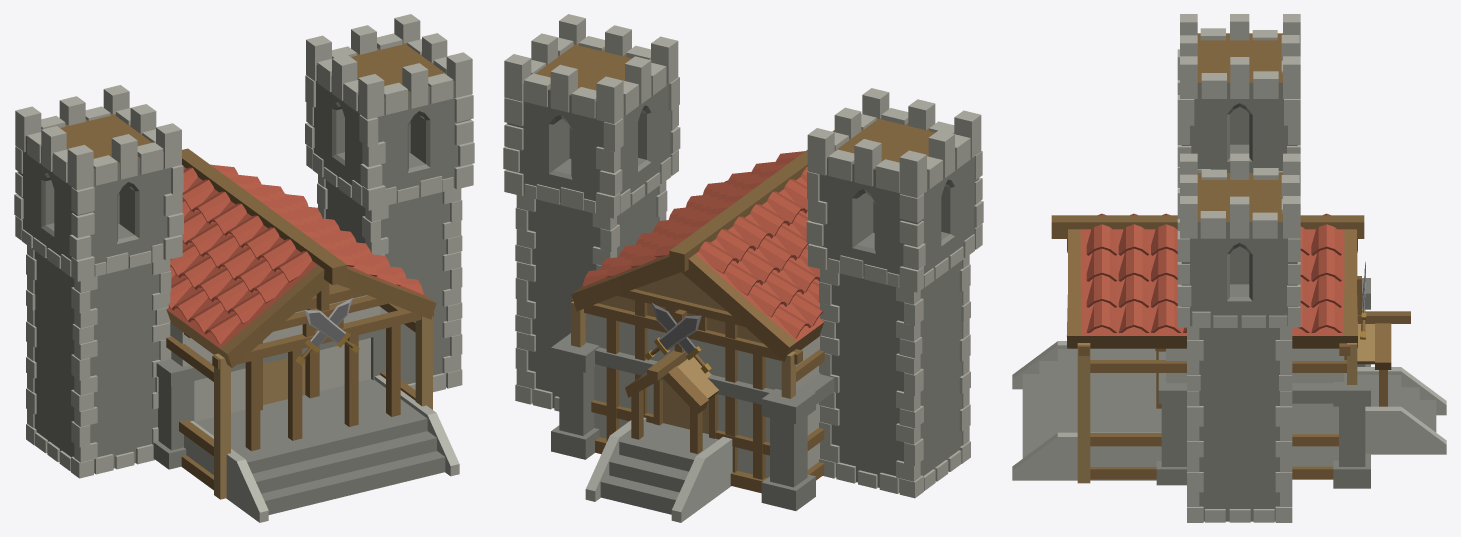
File: Barracks-dvlksXgxWc.glb
3 views of the same model, side by side, from view 1: azimuth 30°, elevation 25°; view 2: azimuth 150°, elevation 25°; view 3: azimuth 270°, elevation 25° (orthographic). The views are drawn at different scales.
Visible parts, largest first — view 1: Barracks-dvlksXgxWc; view 2: Barracks-dvlksXgxWc; view 3: Barracks-dvlksXgxWc.
Boxes of the visible parts, x1,y1,x2,y2 form: Barracks-dvlksXgxWc: (14, 14, 474, 522); Barracks-dvlksXgxWc: (503, 14, 983, 522); Barracks-dvlksXgxWc: (1012, 14, 1446, 522).
Size of the model in its own units: 1.71 by 1.35 by 1.64.
